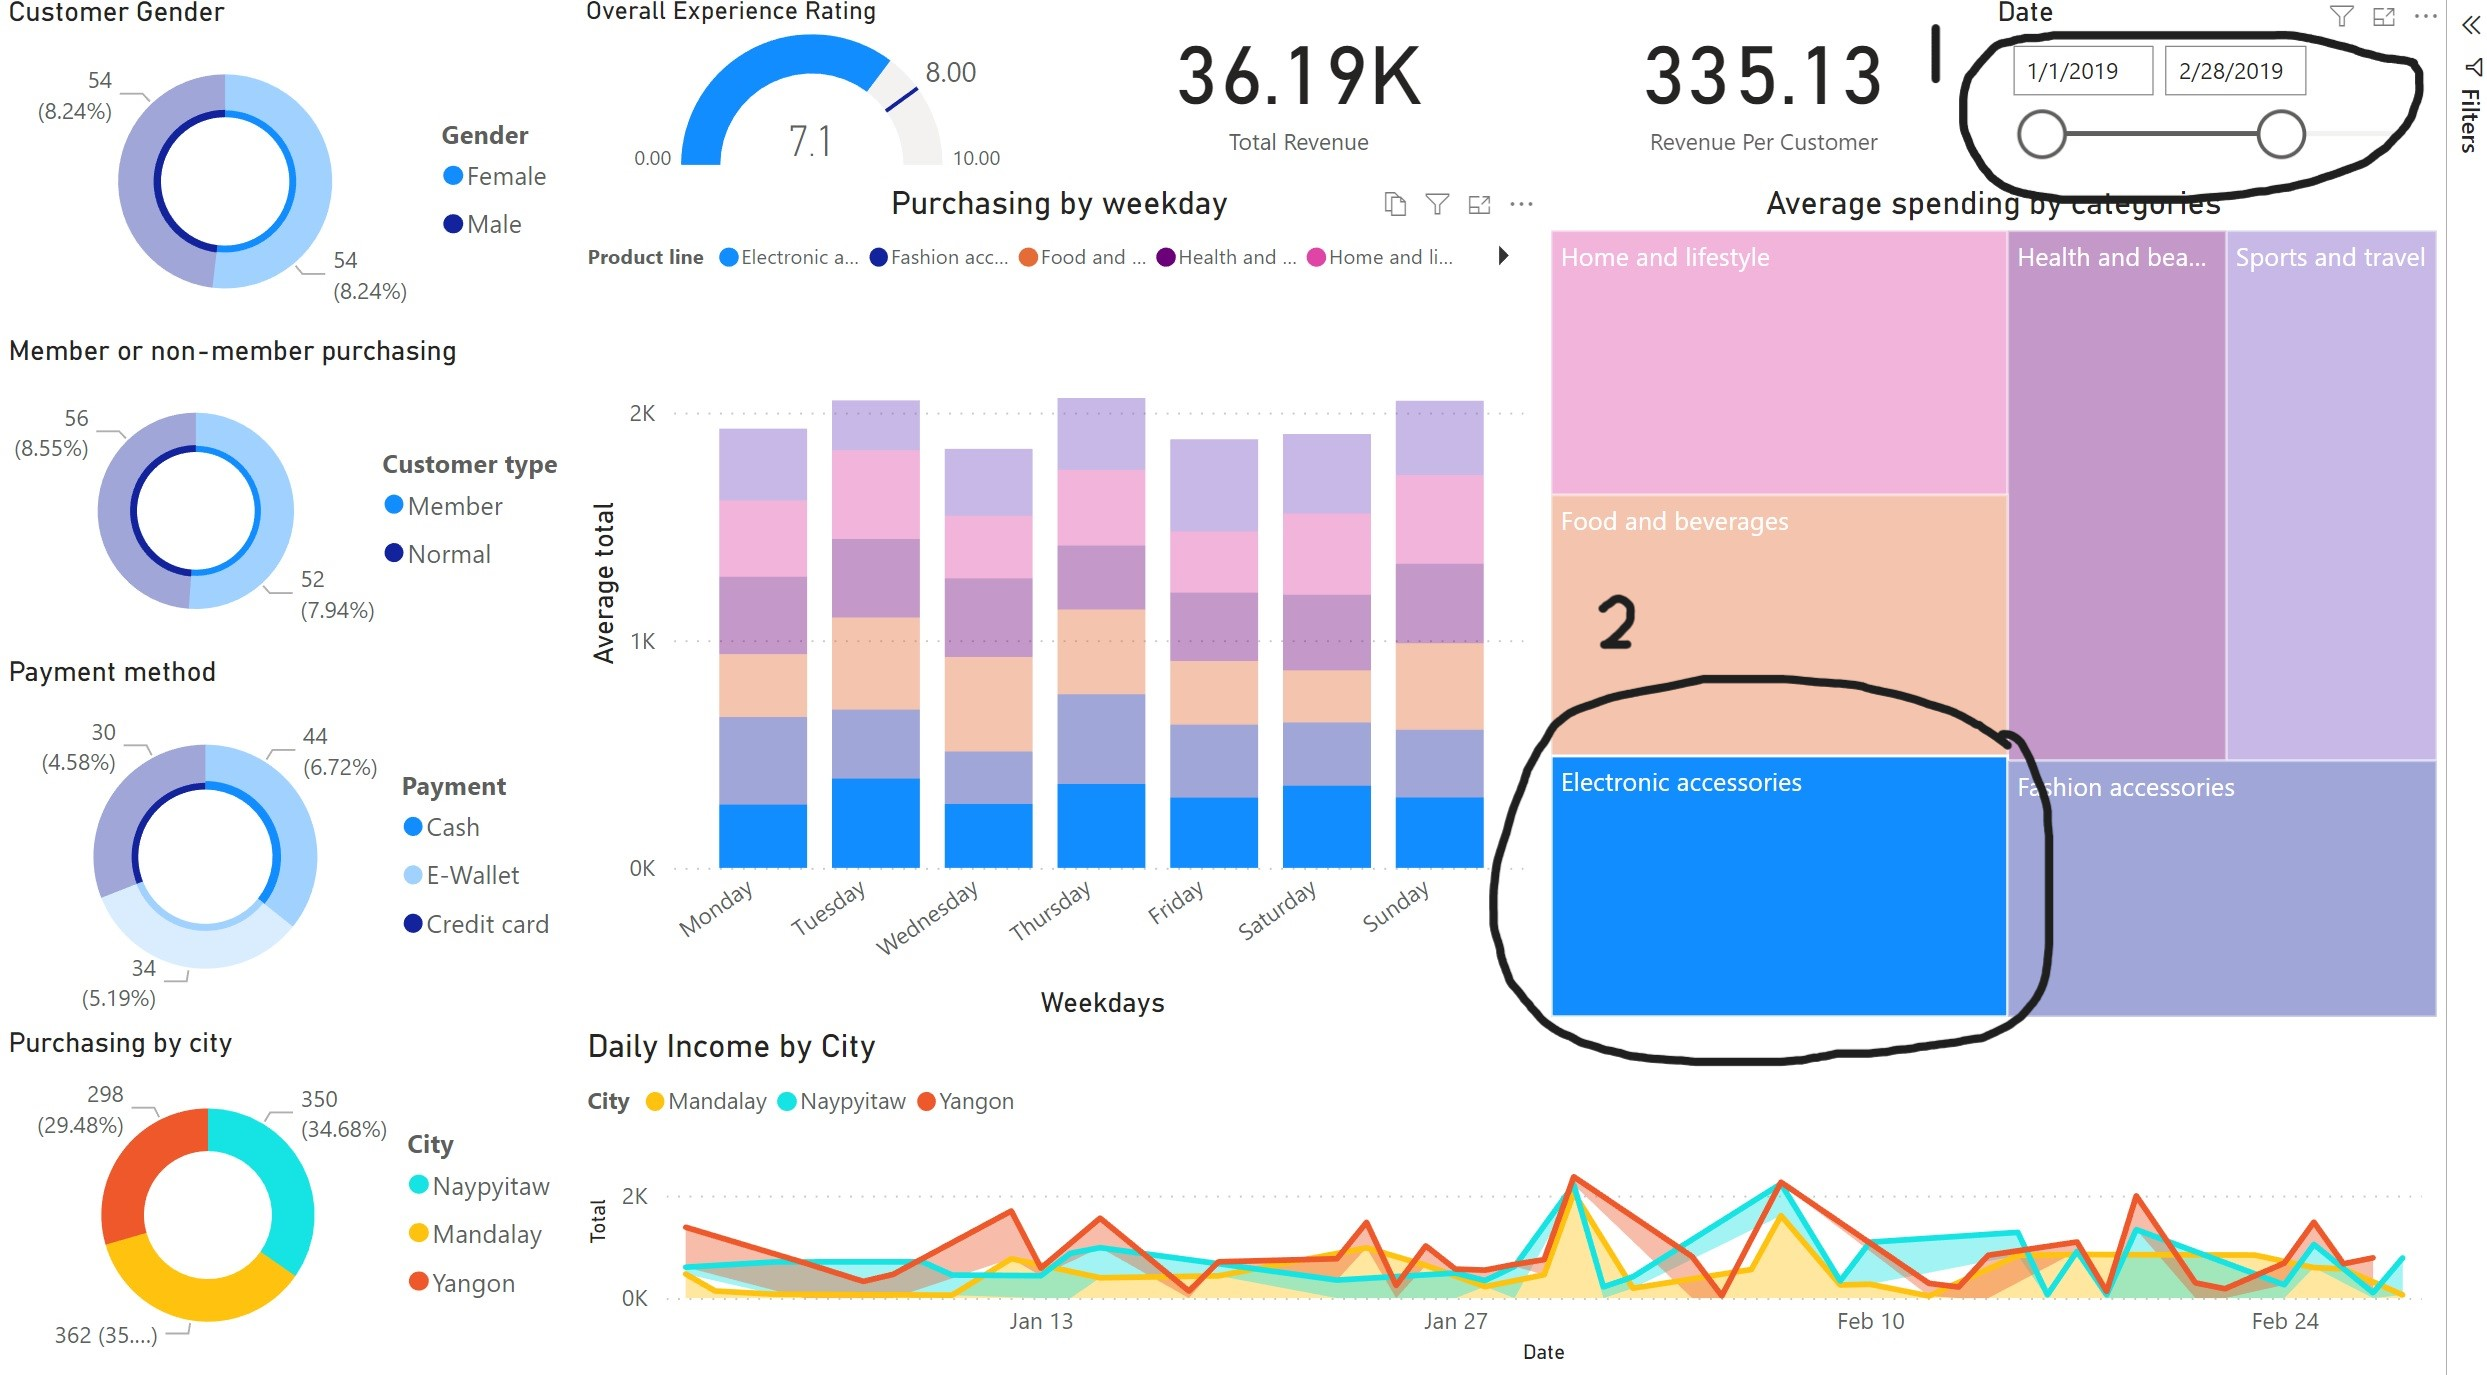

This screenshot's page, from the dashboard's own definition file:
{"tool":"powerbi","page":{"name":"Interactive Dashboard","canvas":[1280,720],"ordinal":0},"visuals":[{"type":"donutChart","title":"Member or non-member purchasing","fields":{"Category":["supermarket_sales.Customer type"],"Y":["CountNonNull(supermarket_sales.Customer type)"]},"box":[0,177.7,302.6,167.6],"z":0},{"type":"slicer","title":"Date","fields":{"Values":["supermarket_sales.Date"]},"box":[1040.4,0,239.6,88.9],"z":1000},{"type":"donutChart","title":"Purchasing by city","fields":{"Category":["supermarket_sales.City"],"Y":["Avg(supermarket_sales.Total)"]},"box":[0,538.8,302.6,181.1],"z":2000},{"type":"treemap","title":"Average spending by categories","fields":{"Group":["supermarket_sales.Product line"],"Values":["Avg(supermarket_sales.Total)"]},"box":[806.5,97.9,473.5,440.9],"z":3000},{"type":"columnChart","title":"Purchasing by weekday","fields":{"Category":["supermarket_sales.Weekdays"],"Y":["Avg(supermarket_sales.Total)"],"Series":["supermarket_sales.Product line"]},"box":[302.6,97.9,503.9,440.9],"z":4000},{"type":"gauge","title":"Overall Experience Rating","fields":{"MaxValue":["Max(supermarket_sales.Rating)"],"Y":["Avg(supermarket_sales.Rating)1"]},"box":[302.4,0,252,98.3],"z":5000},{"type":"donutChart","title":"Payment method","fields":{"Category":["supermarket_sales.Payment"],"Y":["CountNonNull(supermarket_sales.Invoice ID)"]},"box":[0,345.3,302.6,193.5],"z":6000},{"type":"donutChart","title":"Customer Gender","fields":{"Category":["supermarket_sales.Gender"],"Y":["CountNonNull(supermarket_sales.Gender)"]},"box":[0,0,302.6,177.7],"z":7000},{"type":"card","title":"Total Income","fields":{"Values":["Sum(supermarket_sales.Total)"]},"box":[554.3,0,252,89],"z":8000},{"type":"card","fields":{"Values":["Avg(supermarket_sales.Total)"]},"box":[806.3,0,234.3,89],"z":9000},{"type":"stackedAreaChart","title":"Daily Income by City","fields":{"Y":["Sum(supermarket_sales.Total)"],"Series":["supermarket_sales.City"],"Category":["supermarket_sales.Date"]},"box":[302.6,538.8,977.4,181.1],"z":10000}]}

Visuals, with their boxes on the page's 1280x720 design canvas (x1, y1, x2, y2). These are canvas units, not pixel positions in the 2487x1375 screenshot, which may show the page scaled, cropped or inside an application window:
"Member or non-member purchasing" donutChart: <region>0, 178, 303, 345</region>
"Date" slicer: <region>1040, 0, 1280, 89</region>
"Purchasing by city" donutChart: <region>0, 539, 303, 720</region>
"Average spending by categories" treemap: <region>806, 98, 1280, 539</region>
"Purchasing by weekday" columnChart: <region>303, 98, 806, 539</region>
"Overall Experience Rating" gauge: <region>302, 0, 554, 98</region>
"Payment method" donutChart: <region>0, 345, 303, 539</region>
"Customer Gender" donutChart: <region>0, 0, 303, 178</region>
"Total Income" card: <region>554, 0, 806, 89</region>
card - Avg(supermarket_sales.Total): <region>806, 0, 1041, 89</region>
"Daily Income by City" stackedAreaChart: <region>303, 539, 1280, 720</region>
